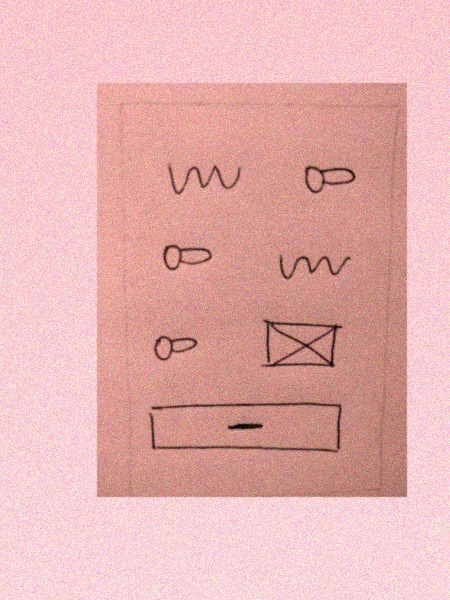button: (143, 394, 346, 459)
image: (254, 314, 347, 379)
switch: (157, 239, 219, 282), (300, 158, 361, 201), (149, 331, 201, 370)
text: (163, 156, 246, 202), (275, 245, 359, 290)
